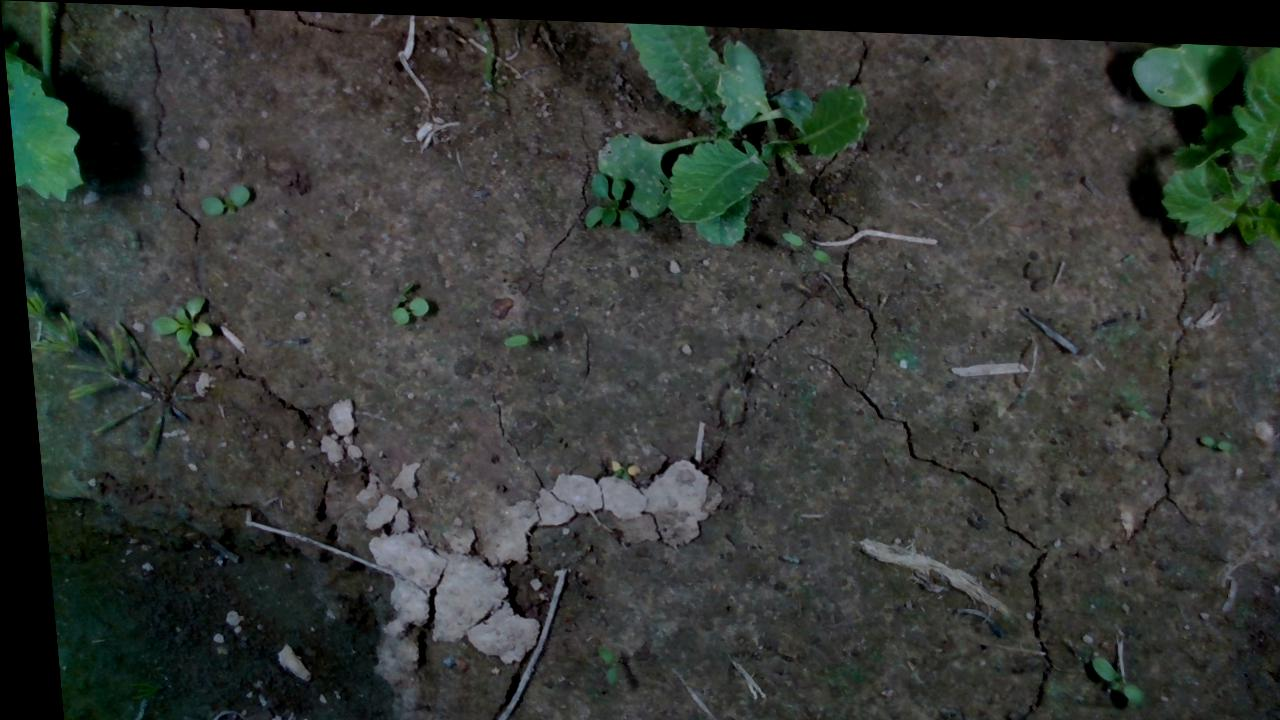weed: (1078, 646, 1133, 696), (191, 178, 248, 215), (775, 223, 828, 260), (383, 291, 425, 322), (582, 637, 608, 681), (1189, 424, 1229, 444), (494, 328, 524, 344)
